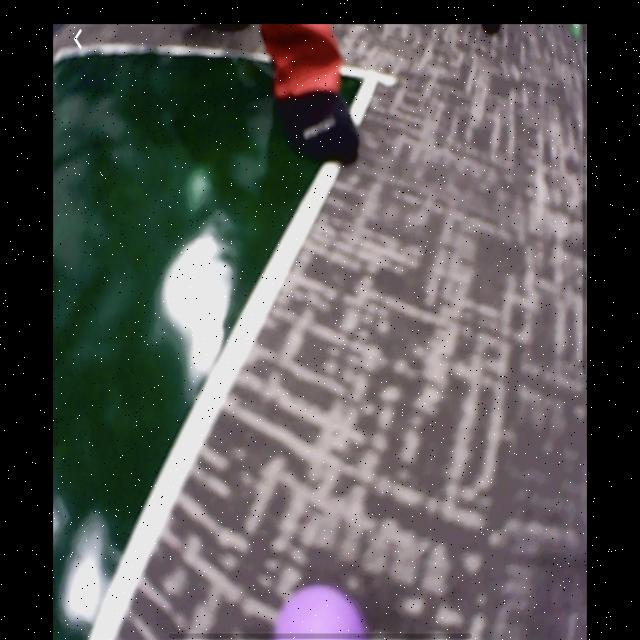ball: (270, 584, 370, 640)
